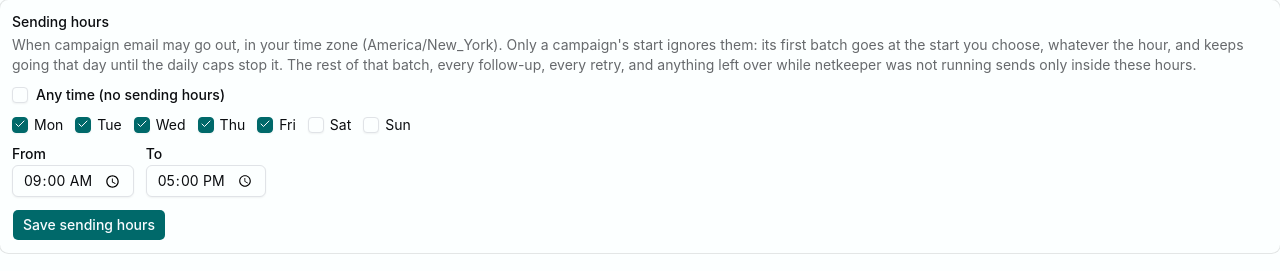
Test case: SendingHoursSection › saves new days and times
This screenshot has width=1280, height=271.
Click the checkbox named "Sat" next to "Sat" at x=316, y=125, box [308,117,324,133]
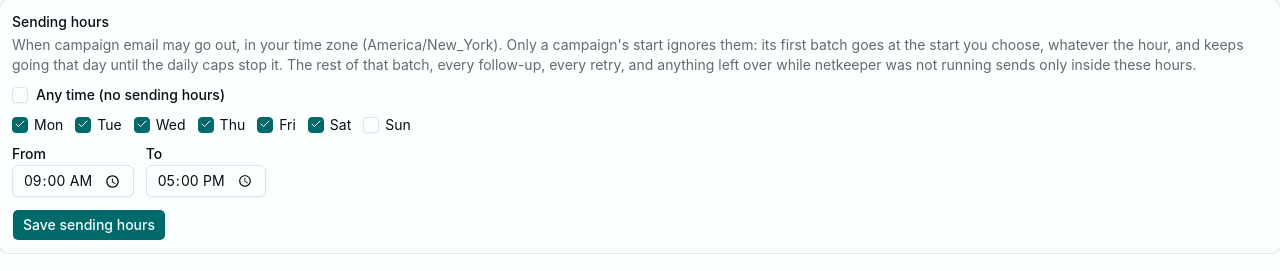
Click the checkbox named "Mon" next to "Mon" at x=20, y=125, box [12,117,28,133]
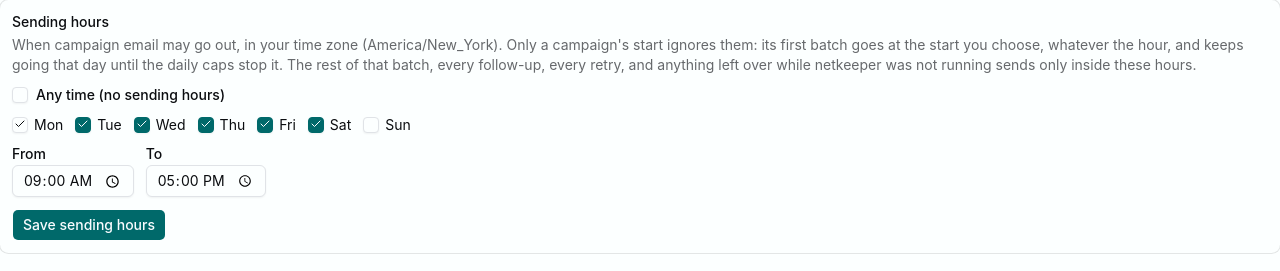
Replace the text in the time field labelled "To" with "16:00" at x=206, y=181, box [146,165,266,197]
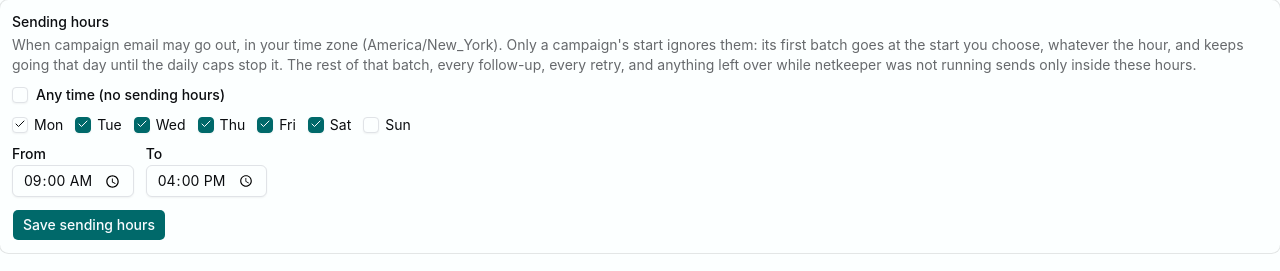
Click the button "Save sending hours" at x=89, y=225, box [12,209,166,241]
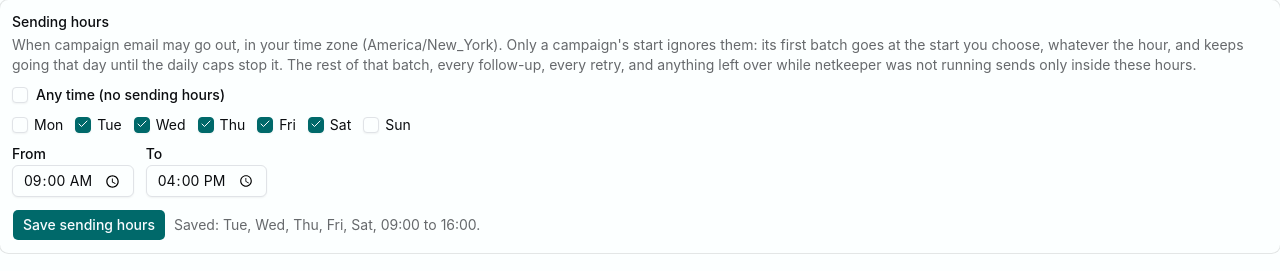
Result: the text "Saved: Tue, Wed, Thu, Fri, Sat, 09:00 to 16:00." is shown at [174,215,480,235]
